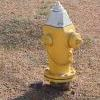a fire hydrant: (43, 7, 75, 85)
